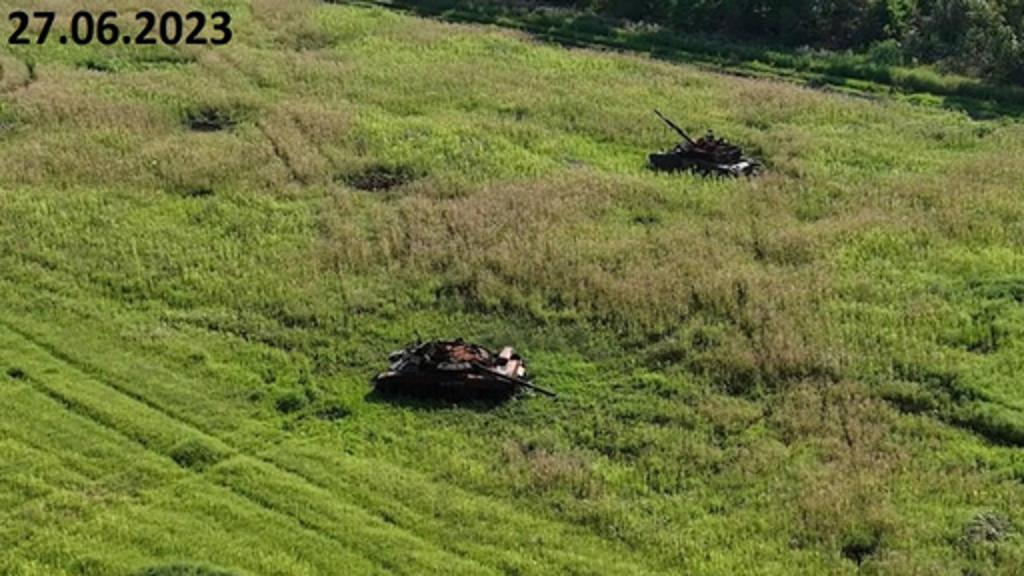TANK: (368, 332, 554, 410), (644, 102, 760, 186)
